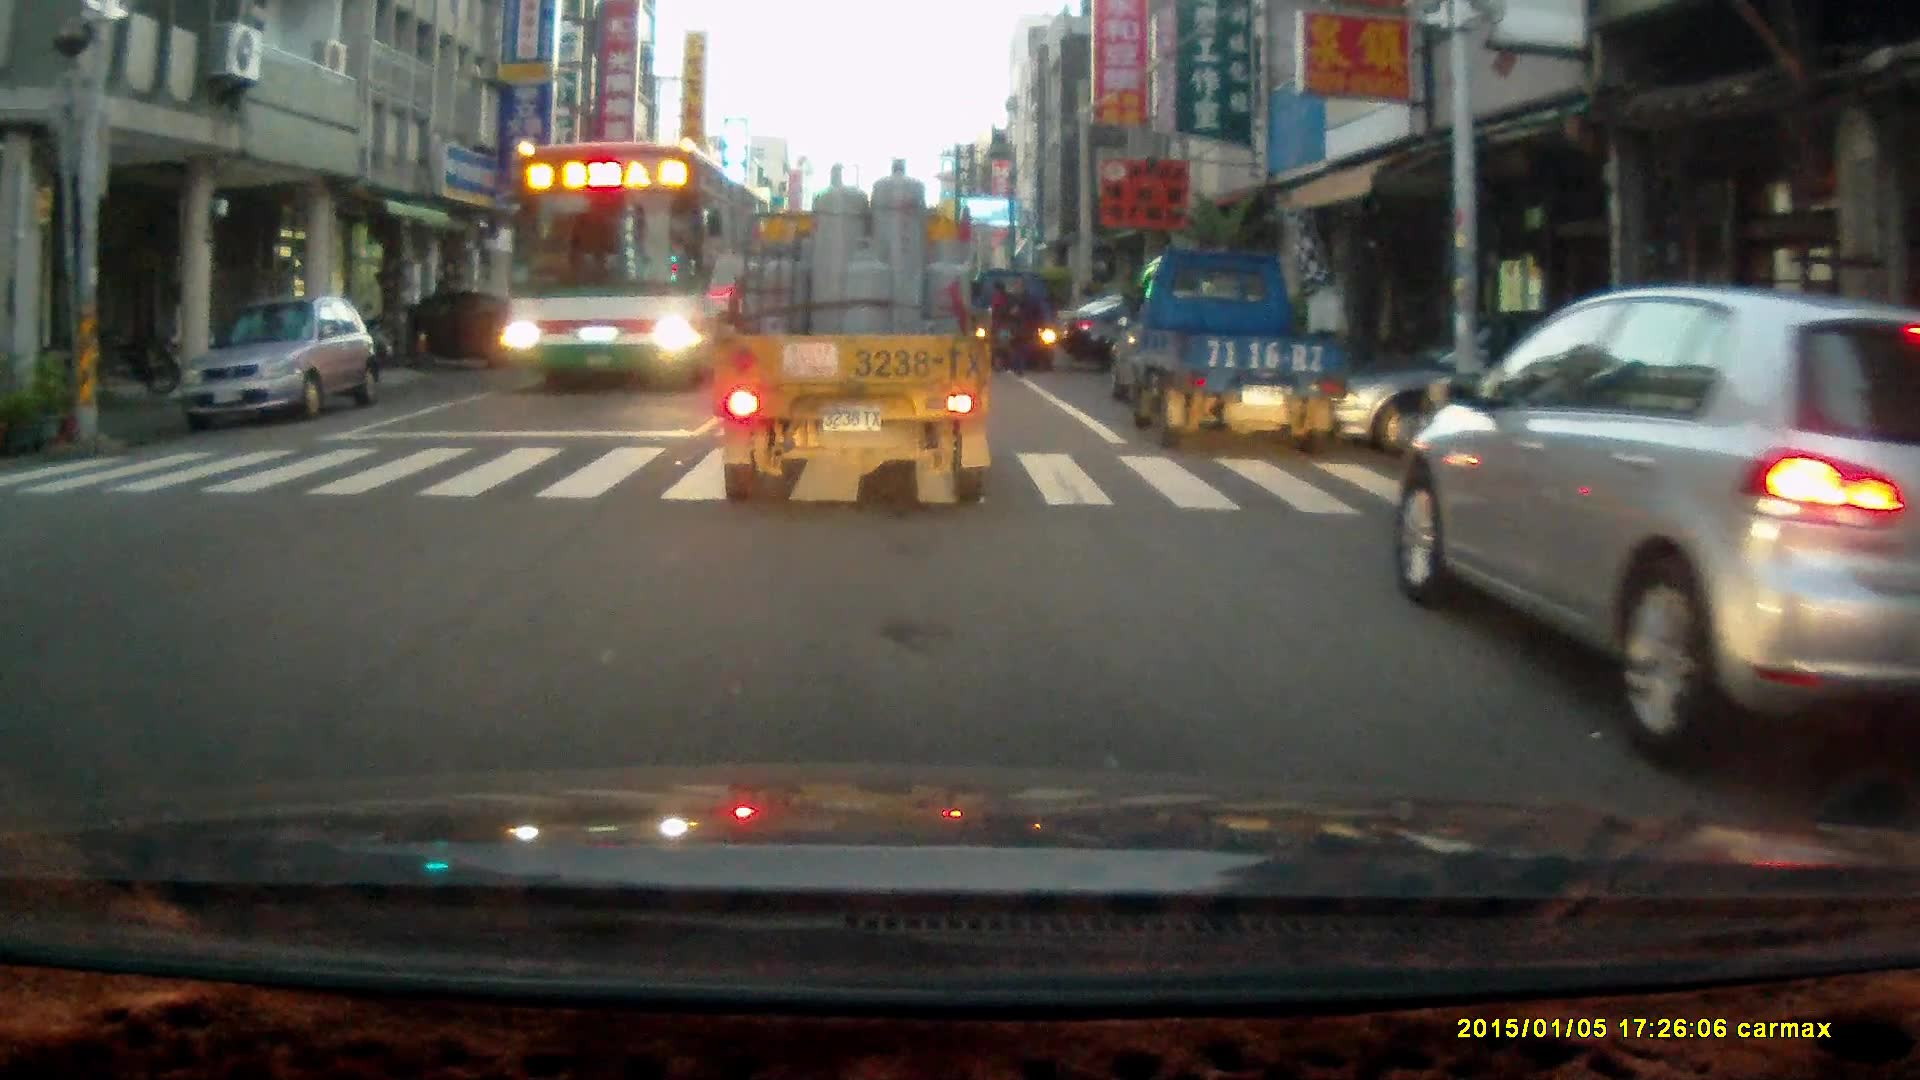pedestrian: (1000, 275, 1042, 376), (981, 278, 1008, 374)
vehicle: (1392, 285, 1920, 788), (715, 153, 999, 506), (498, 138, 764, 392), (1110, 246, 1350, 453), (173, 289, 382, 426), (334, 283, 548, 366), (970, 267, 1066, 377)
